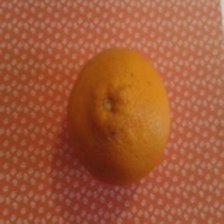orange: (31, 4, 193, 191)
